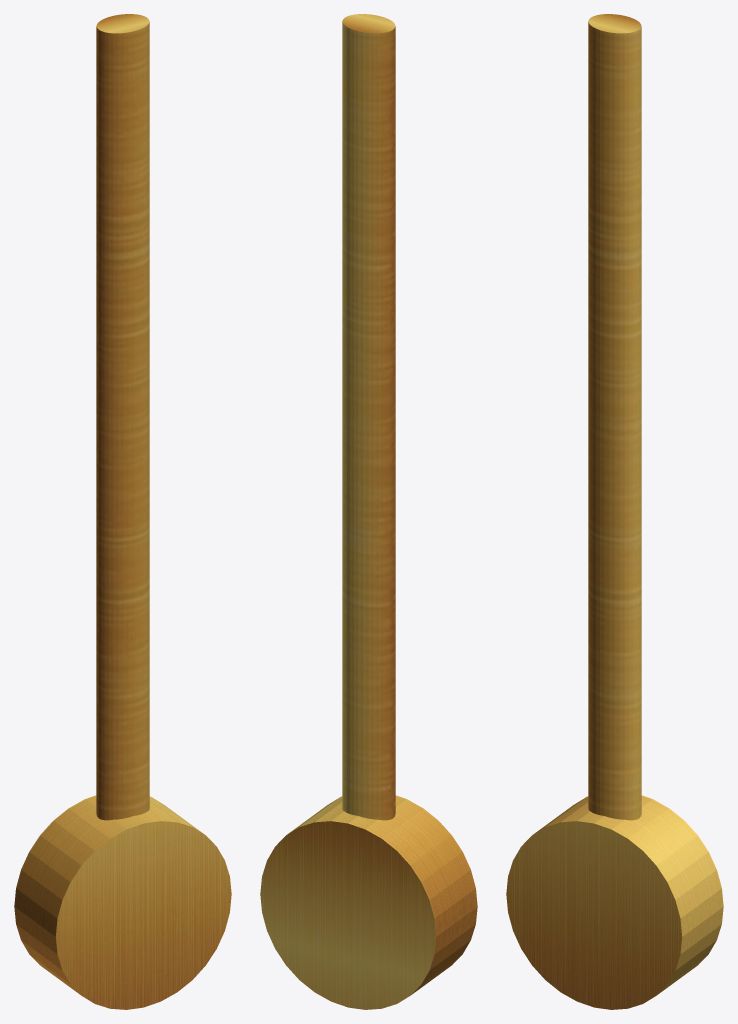
Rendered from pendulumStick3.obj.
3 renders of one model, left to right at view 1: azimuth 30°, elevation 25°; view 2: azimuth 150°, elevation 25°; view 3: azimuth 330°, elevation 25°, orthographic.
Parts seen in each view (by area): view 1: Cilindro.014; view 2: Cilindro.014; view 3: Cilindro.014.
Part boxes in pixels (bbox=[...]): Cilindro.014: bbox=[14, 14, 231, 1009]; Cilindro.014: bbox=[260, 14, 477, 1009]; Cilindro.014: bbox=[506, 14, 723, 1009].
Size of the model in its own units: 2 by 10.53 by 0.817.
Materials: 1 (1 with a texture image).
